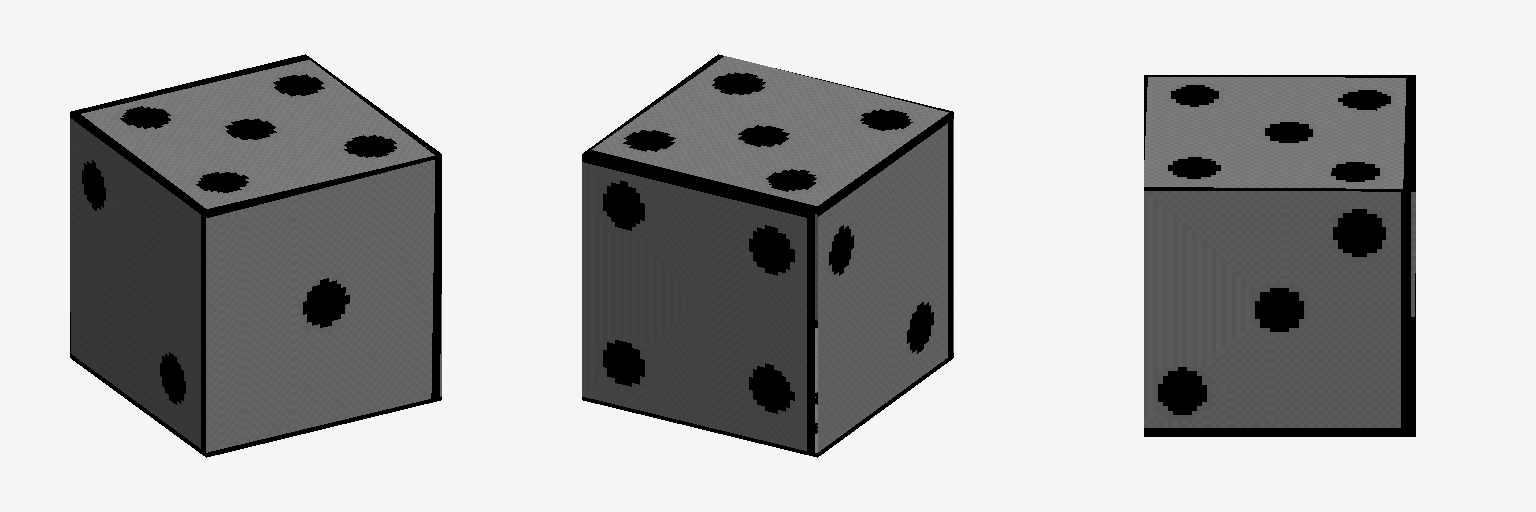
3 views of the same model, side by side, from view 1: azimuth 30°, elevation 25°; view 2: azimuth 150°, elevation 25°; view 3: azimuth 270°, elevation 25° (orthographic).
Visible parts, largest first — view 1: Cube; view 2: Cube; view 3: Cube.
Boxes of the visible parts, x1,y1,x2,y2 form: Cube: [70, 54, 441, 457]; Cube: [582, 54, 953, 457]; Cube: [1144, 75, 1415, 436].
Size of the model in its own units: 2 by 2 by 2.
1 materials, 1 textured.